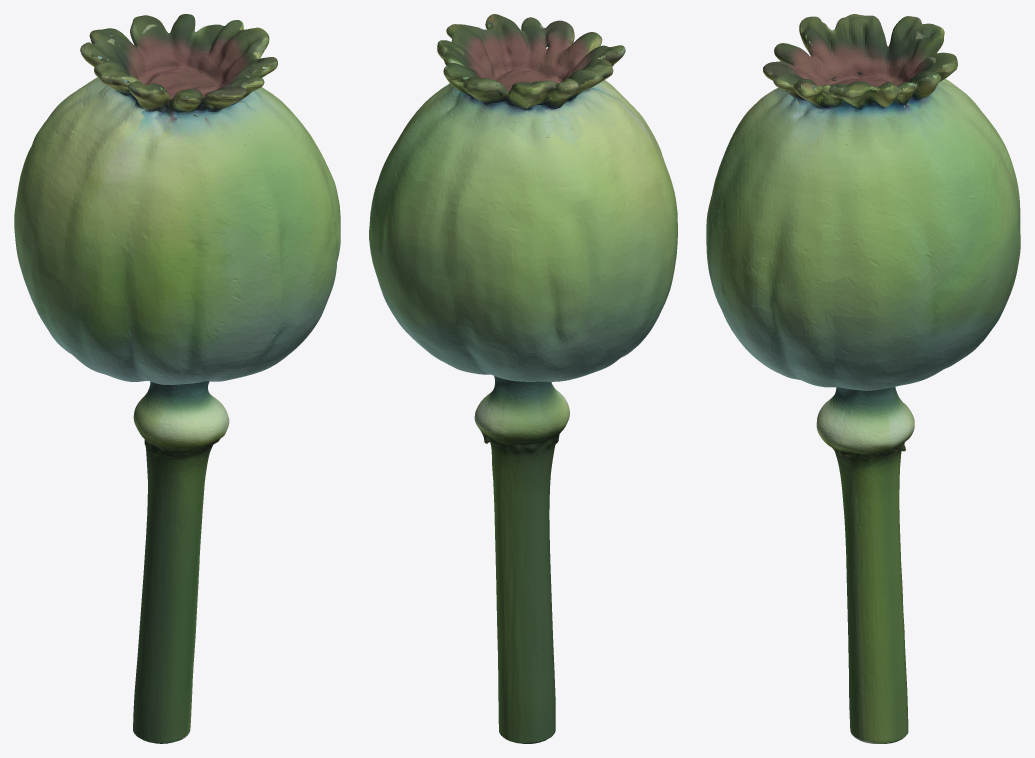
Rendered from Poppy.glb.
3 views of the same model, side by side, from view 1: azimuth 30°, elevation 25°; view 2: azimuth 150°, elevation 25°; view 3: azimuth 270°, elevation 25° (orthographic).
Parts seen in each view (by area): view 1: world; view 2: world; view 3: world.
Boxes of the visible parts, <box> form: world: <box>14,14,340,743</box>; world: <box>369,14,677,743</box>; world: <box>706,14,1020,743</box>.
Size of the model in its own units: 0.8333 by 1.99 by 0.8246.
1 material, 1 textured.
